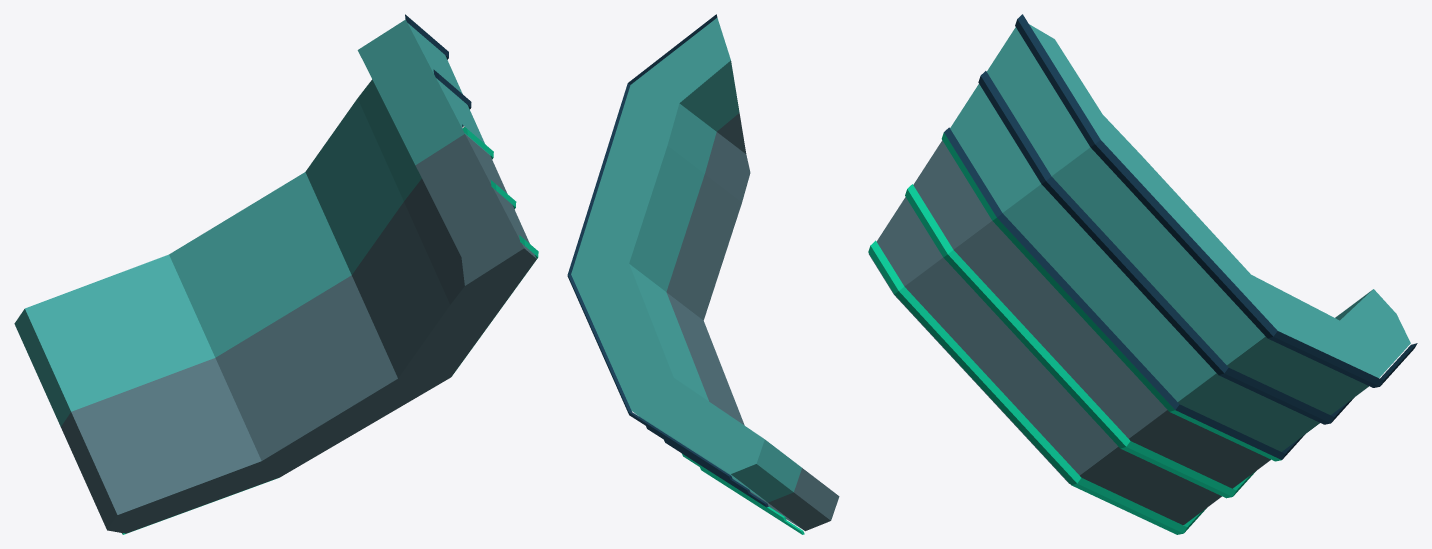
The model's file is Freighter_Guard.01.fbx.
The picture shows the model from 3 angles, left to right: view 1: azimuth 30°, elevation 25°; view 2: azimuth 150°, elevation 25°; view 3: azimuth 270°, elevation 25°; orthographic projection. The views are drawn at different scales.
Parts seen in each view (by area): view 1: CruiserGuard_01_LOD0; view 2: CruiserGuard_01_LOD0; view 3: CruiserGuard_01_LOD0.
Boxes of the visible parts, bbox=[...] form: CruiserGuard_01_LOD0: bbox=[14, 14, 538, 534]; CruiserGuard_01_LOD0: bbox=[567, 14, 839, 534]; CruiserGuard_01_LOD0: bbox=[868, 14, 1417, 534].
Size of what is drawn, in the model's own units: 6768 by 11663 by 9877.
Materials: 1 (1 with a texture image).
